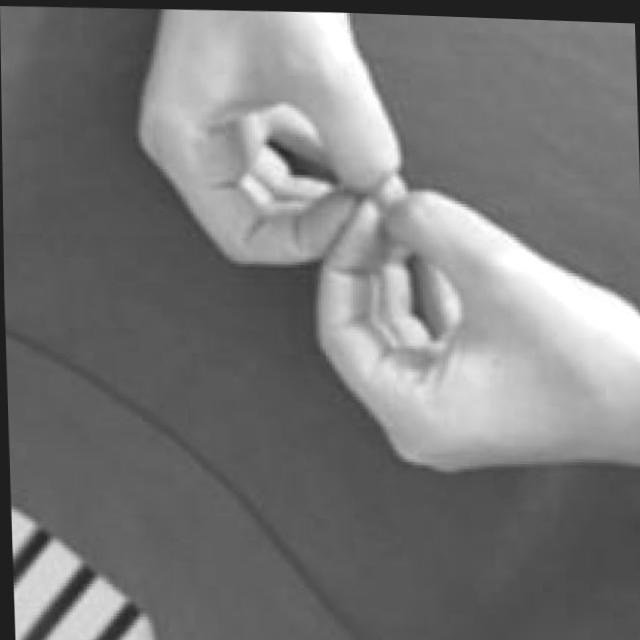B: (133, 5, 640, 486)
